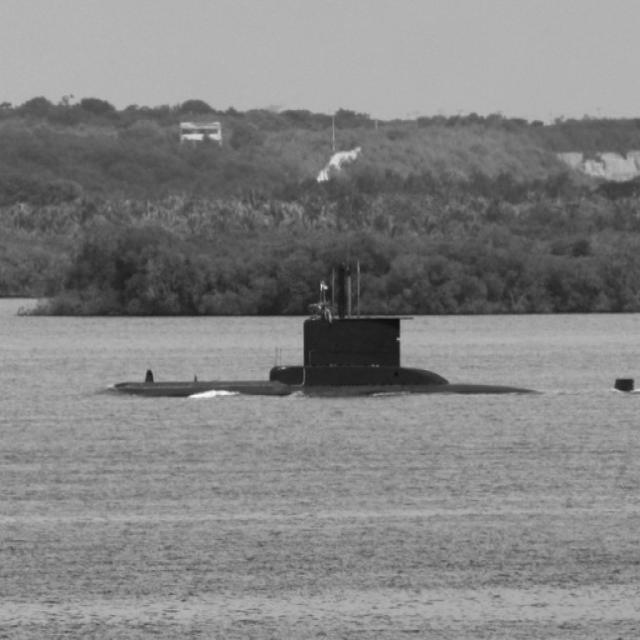submarine: (108, 242, 640, 406)
